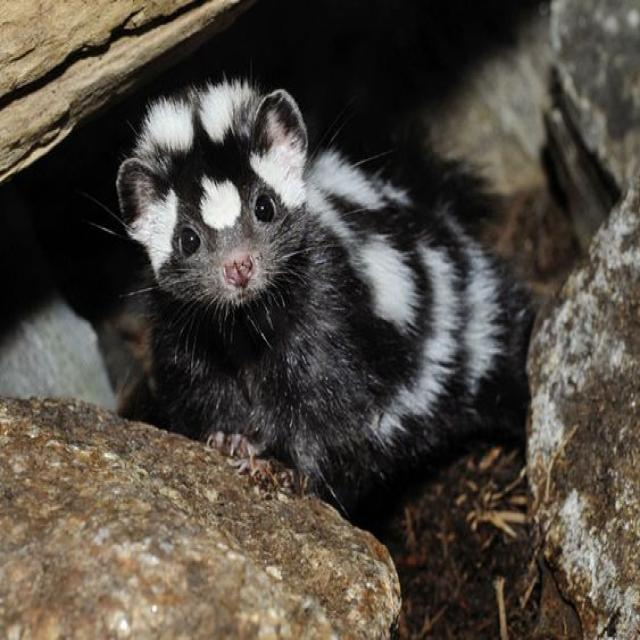Skunk: (102, 61, 520, 465)
